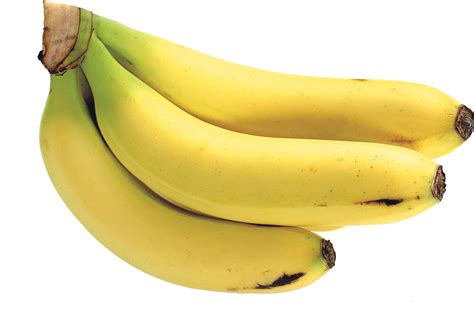banana: (36, 84, 342, 297), (89, 74, 452, 230), (122, 32, 474, 155)
